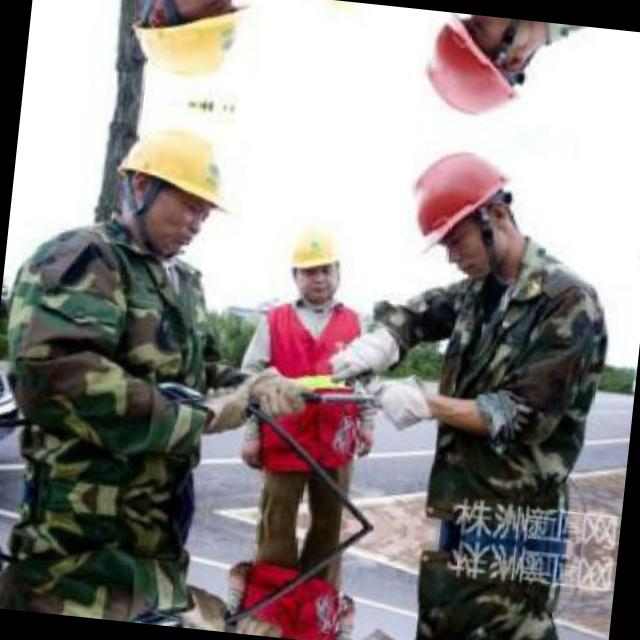helmet: (389, 128, 538, 288), (103, 110, 246, 264), (404, 9, 551, 140), (121, 0, 262, 96), (272, 205, 351, 309), (299, 0, 373, 31)
